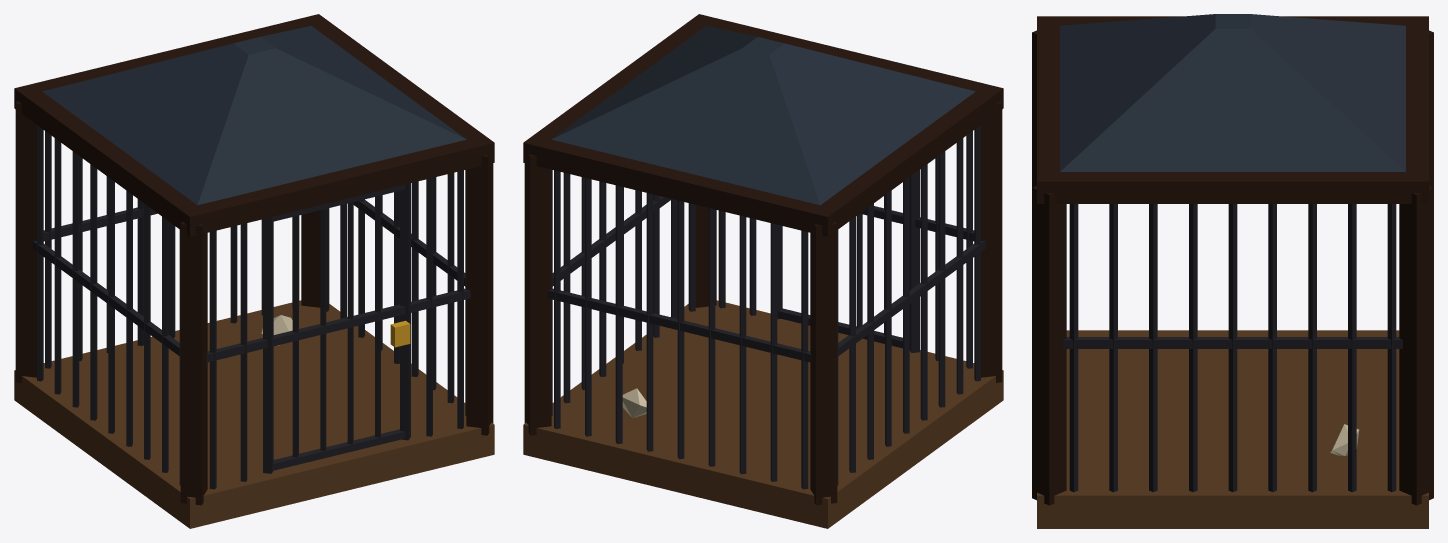
The model's file is jaula_rescate.fbx.
3 views of the same model, side by side, from view 1: azimuth 30°, elevation 25°; view 2: azimuth 150°, elevation 25°; view 3: azimuth 270°, elevation 25° (orthographic). The views are drawn at different scales.
Visible parts, largest first — view 1: jaula.001, puerta; view 2: jaula.001, puerta; view 3: jaula.001.
Part boxes in pixels (<box>): jaula.001: <box>14,14,494,528</box>; puerta: <box>263,183,410,473</box>; jaula.001: <box>523,14,1003,528</box>; puerta: <box>777,170,919,352</box>; jaula.001: <box>1032,14,1433,528</box>.
Size of the model in its own units: 3.28 by 3.83 by 3.28.
